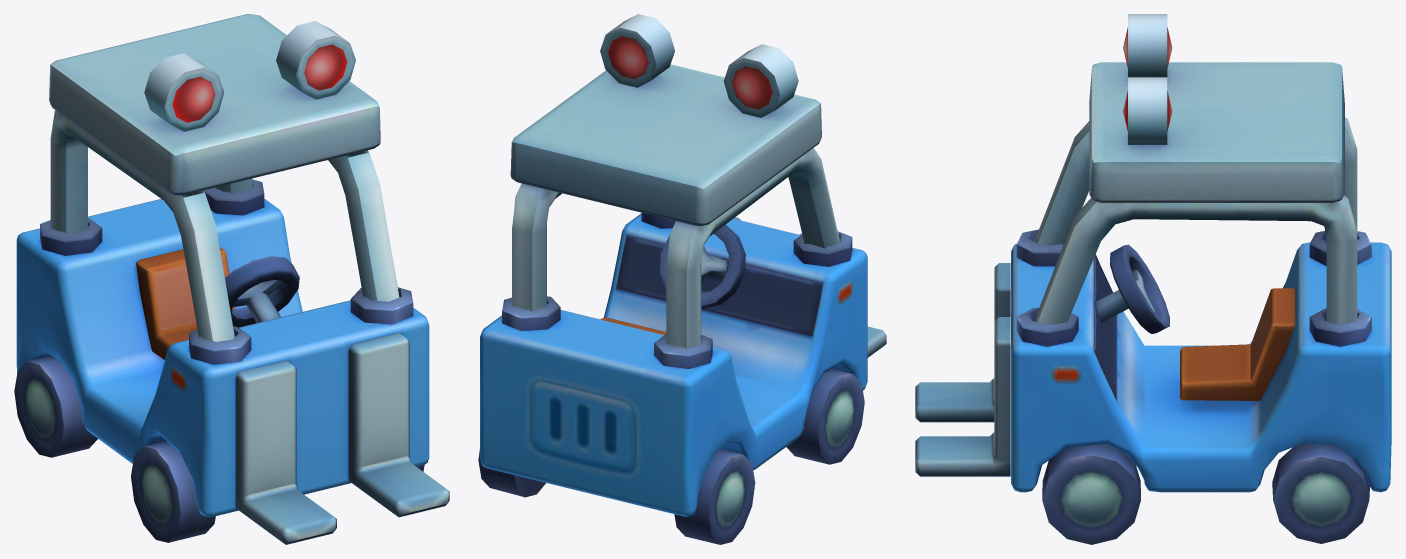
The model's file is 0-forklift_blue.fbx.
3 views of the same model, side by side, from view 1: azimuth 30°, elevation 25°; view 2: azimuth 150°, elevation 25°; view 3: azimuth 270°, elevation 25° (orthographic). The views are drawn at different scales.
Visible parts, largest first — view 1: 0-forklift_blue; view 2: 0-forklift_blue; view 3: 0-forklift_blue.
Boxes of the visible parts, <box> form: 0-forklift_blue: <box>14,14,449,544</box>; 0-forklift_blue: <box>478,14,886,544</box>; 0-forklift_blue: <box>915,14,1391,544</box>.
Bounding box in the file's own units: 60.24 × 98.43 × 97.46.
